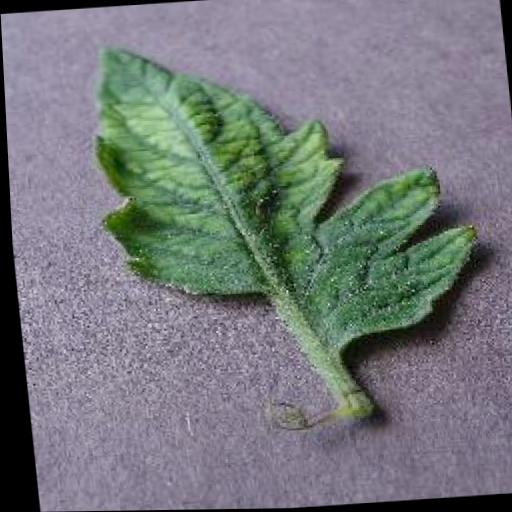Mosaic Virus: (79, 17, 481, 358)
